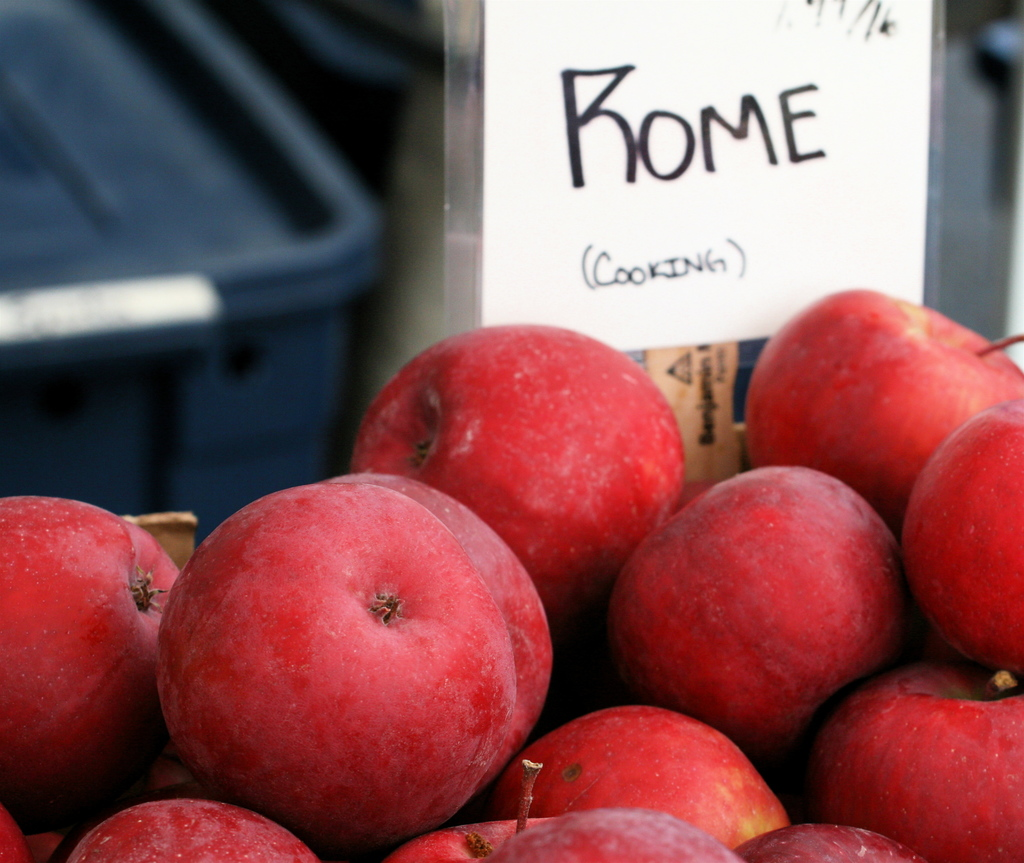Apple: (0, 282, 1023, 862), (161, 488, 542, 835)
